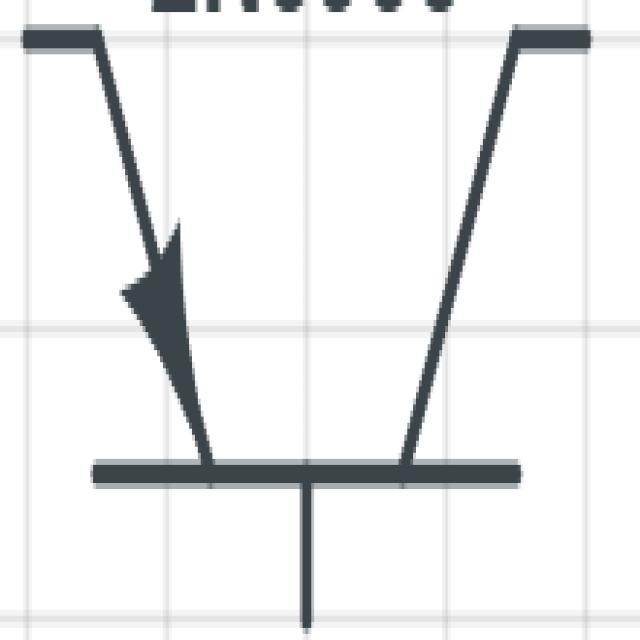pnp_bjt: (16, 14, 608, 632)
